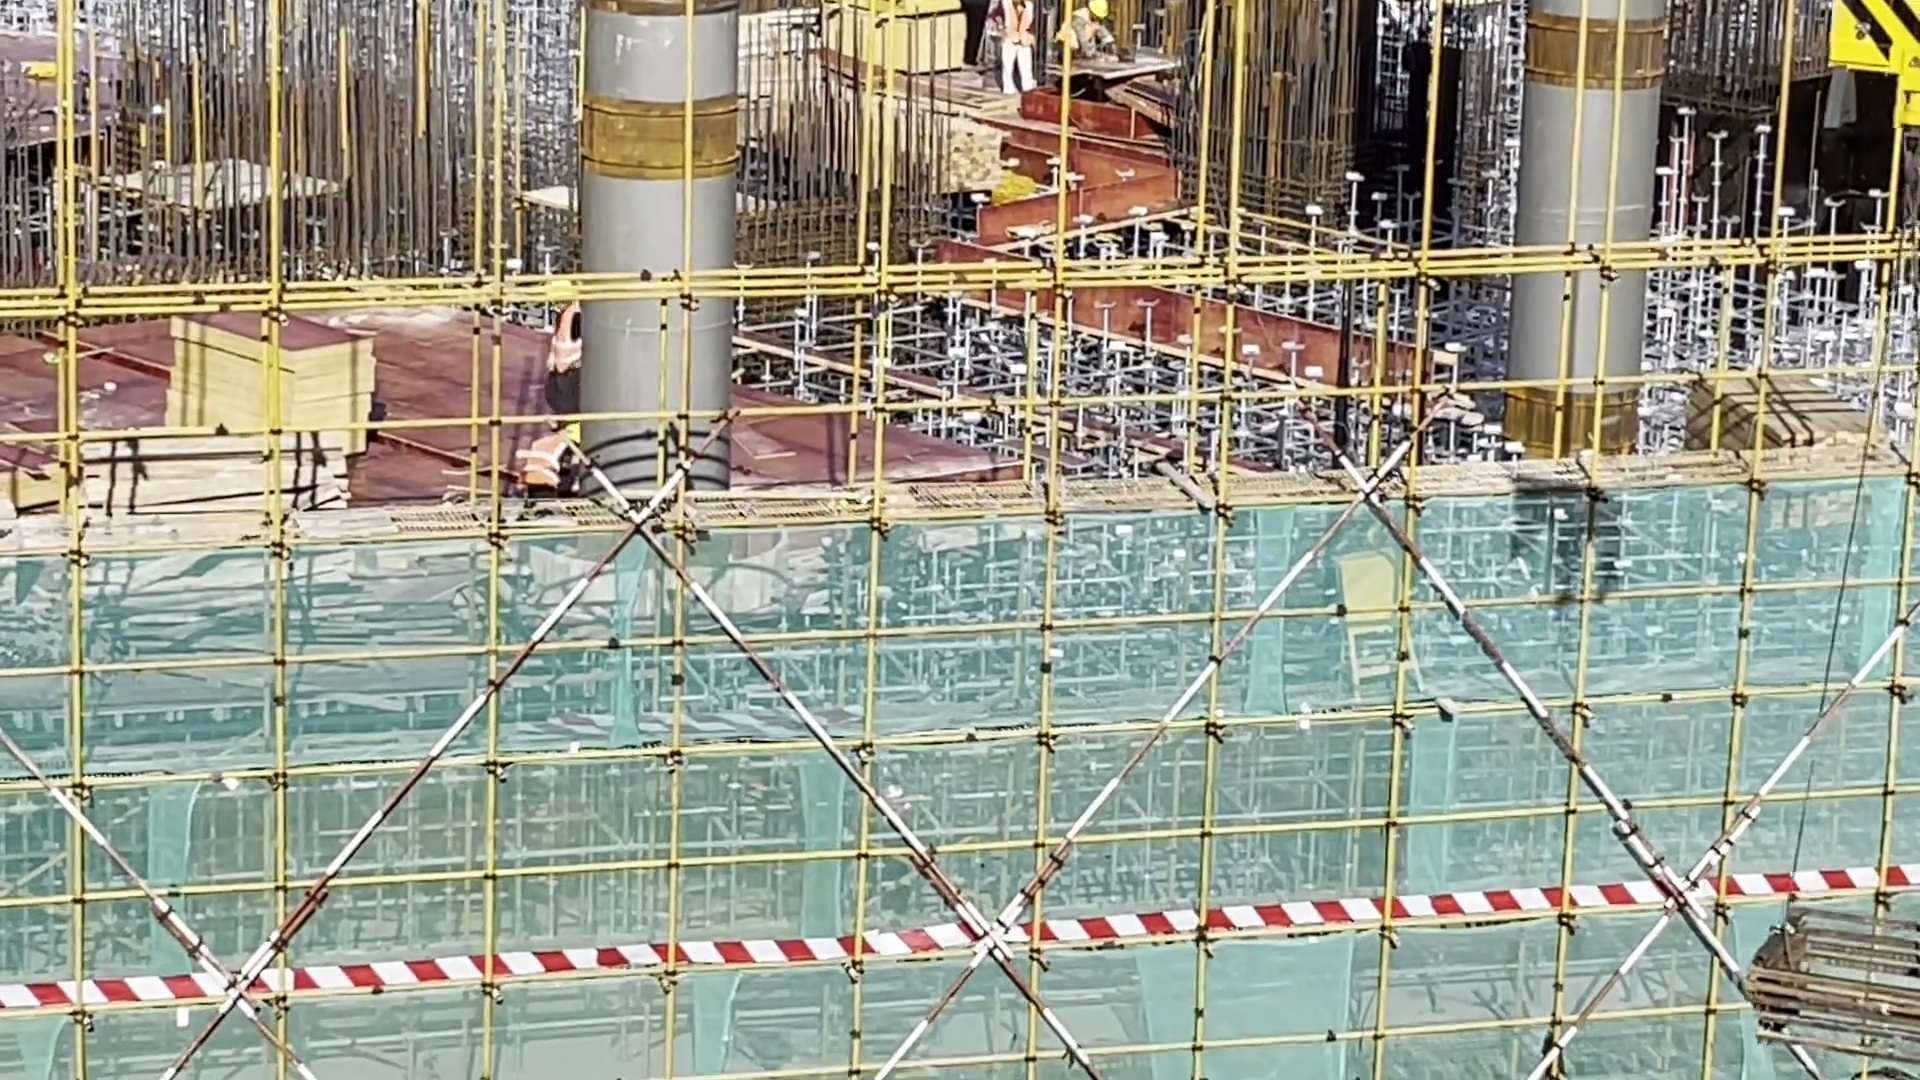helmet: (560, 422, 585, 448), (1089, 1, 1109, 28)
person: (520, 405, 595, 516), (547, 269, 600, 423), (1055, 1, 1128, 93), (991, 1, 1035, 106)
vest: (522, 428, 580, 503), (546, 308, 588, 375), (994, 3, 1038, 50)
